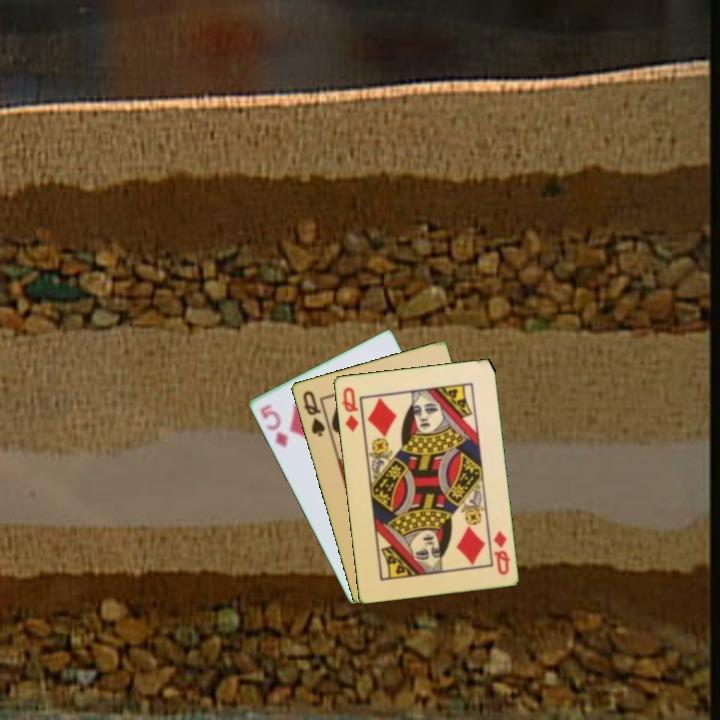5d: (256, 400, 291, 450)
Qd: (338, 383, 361, 434), (489, 527, 512, 577)
Qs: (299, 387, 328, 439)
